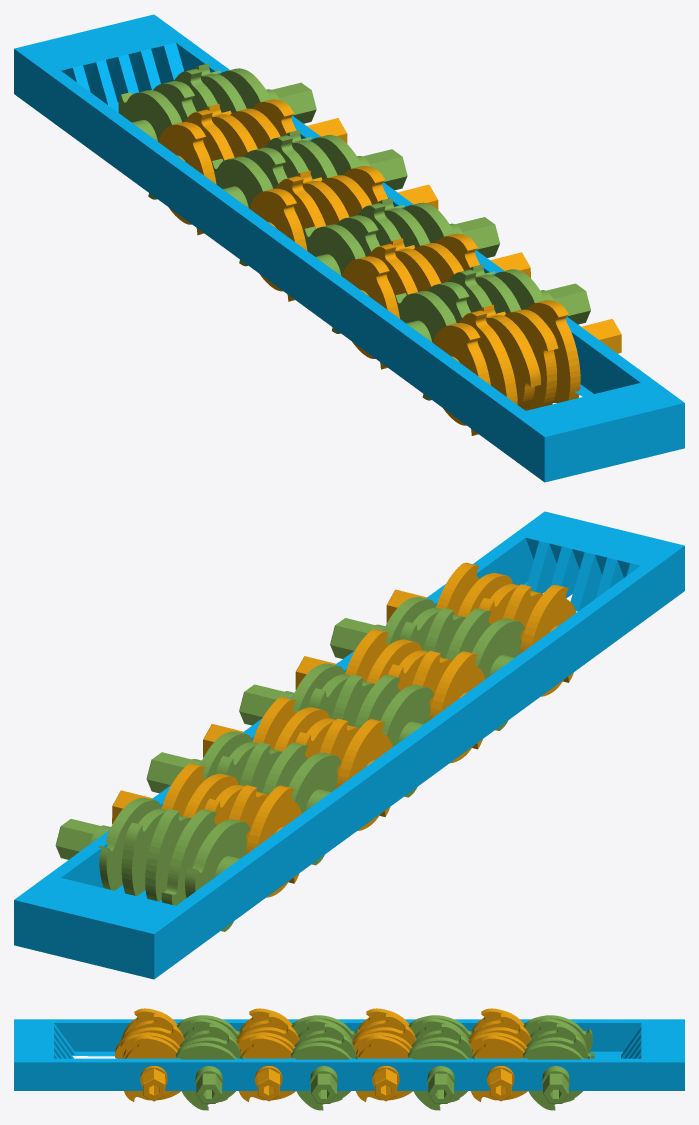
File: shredder.fbx
The picture shows the model from 3 angles, top to bottom: view 1: azimuth 30°, elevation 25°; view 2: azimuth 150°, elevation 25°; view 3: azimuth 270°, elevation 25°; orthographic projection. The views are drawn at different scales.
Parts seen in each view (by area): view 1: se 8\box top_c_2_0, se 8\ctr 1_Hard Shiny Plastic orange_0.003, se 8\ctr 2_Hard Shiny Plastic Green med #1_0, se 8\ctr 2_Hard Shiny Plastic Green med #1_0.002, se 8\ctr 2_Hard Shiny Plastic Green med #1_0.001, se 8\ctr 2_Hard Shiny Plastic Green med #1_0.003, se 8\ctr 1_Hard Shiny Plastic orange_0.001, se 8\ctr 1_Hard Shiny Plastic orange_0, se 8\ctr 1_Hard Shiny Plastic orange_0.002; view 2: se 8\box top_c_2_0, se 8\ctr 2_Hard Shiny Plastic Green med #1_0, se 8\ctr 2_Hard Shiny Plastic Green med #1_0.002, se 8\ctr 2_Hard Shiny Plastic Green med #1_0.001, se 8\ctr 2_Hard Shiny Plastic Green med #1_0.003, se 8\ctr 1_Hard Shiny Plastic orange_0.002, se 8\ctr 1_Hard Shiny Plastic orange_0.003, se 8\ctr 1_Hard Shiny Plastic orange_0.001, se 8\ctr 1_Hard Shiny Plastic orange_0; view 3: se 8\box top_c_2_0, se 8\ctr 2_Hard Shiny Plastic Green med #1_0, se 8\ctr 2_Hard Shiny Plastic Green med #1_0.002, se 8\ctr 2_Hard Shiny Plastic Green med #1_0.001, se 8\ctr 2_Hard Shiny Plastic Green med #1_0.003, se 8\ctr 1_Hard Shiny Plastic orange_0.003, se 8\ctr 1_Hard Shiny Plastic orange_0.001, se 8\ctr 1_Hard Shiny Plastic orange_0, se 8\ctr 1_Hard Shiny Plastic orange_0.002.
Boxes of the visible parts, bbox=[...] form: se 8\box top_c_2_0: bbox=[14, 14, 684, 482]; se 8\ctr 1_Hard Shiny Plastic orange_0.003: bbox=[432, 300, 621, 435]; se 8\ctr 2_Hard Shiny Plastic Green med #1_0: bbox=[118, 63, 316, 199]; se 8\ctr 2_Hard Shiny Plastic Green med #1_0.002: bbox=[303, 197, 500, 333]; se 8\ctr 2_Hard Shiny Plastic Green med #1_0.001: bbox=[211, 130, 407, 266]; se 8\ctr 2_Hard Shiny Plastic Green med #1_0.003: bbox=[395, 264, 590, 400]; se 8\ctr 1_Hard Shiny Plastic orange_0.001: bbox=[249, 166, 438, 301]; se 8\ctr 1_Hard Shiny Plastic orange_0: bbox=[158, 99, 347, 235]; se 8\ctr 1_Hard Shiny Plastic orange_0.002: bbox=[342, 233, 530, 369]; se 8\box top_c_2_0: bbox=[14, 511, 684, 979]; se 8\ctr 2_Hard Shiny Plastic Green med #1_0: bbox=[55, 797, 250, 931]; se 8\ctr 2_Hard Shiny Plastic Green med #1_0.002: bbox=[239, 663, 433, 797]; se 8\ctr 2_Hard Shiny Plastic Green med #1_0.001: bbox=[146, 731, 341, 865]; se 8\ctr 2_Hard Shiny Plastic Green med #1_0.003: bbox=[330, 597, 524, 730]; se 8\ctr 1_Hard Shiny Plastic orange_0.002: bbox=[295, 629, 485, 763]; se 8\ctr 1_Hard Shiny Plastic orange_0.003: bbox=[386, 562, 576, 696]; se 8\ctr 1_Hard Shiny Plastic orange_0.001: bbox=[203, 697, 392, 830]; se 8\ctr 1_Hard Shiny Plastic orange_0: bbox=[112, 763, 301, 897]; se 8\box top_c_2_0: bbox=[14, 1019, 684, 1090]; se 8\ctr 2_Hard Shiny Plastic Green med #1_0: bbox=[523, 1015, 594, 1110]; se 8\ctr 2_Hard Shiny Plastic Green med #1_0.002: bbox=[291, 1015, 359, 1110]; se 8\ctr 2_Hard Shiny Plastic Green med #1_0.001: bbox=[408, 1015, 476, 1110]; se 8\ctr 2_Hard Shiny Plastic Green med #1_0.003: bbox=[176, 1015, 244, 1110]; se 8\ctr 1_Hard Shiny Plastic orange_0.003: bbox=[115, 1008, 184, 1101]; se 8\ctr 1_Hard Shiny Plastic orange_0.001: bbox=[352, 1008, 416, 1101]; se 8\ctr 1_Hard Shiny Plastic orange_0: bbox=[468, 1008, 531, 1101]; se 8\ctr 1_Hard Shiny Plastic orange_0.002: bbox=[236, 1008, 299, 1101].
Size of the model in its own units: 65.66 by 36.35 by 316.
